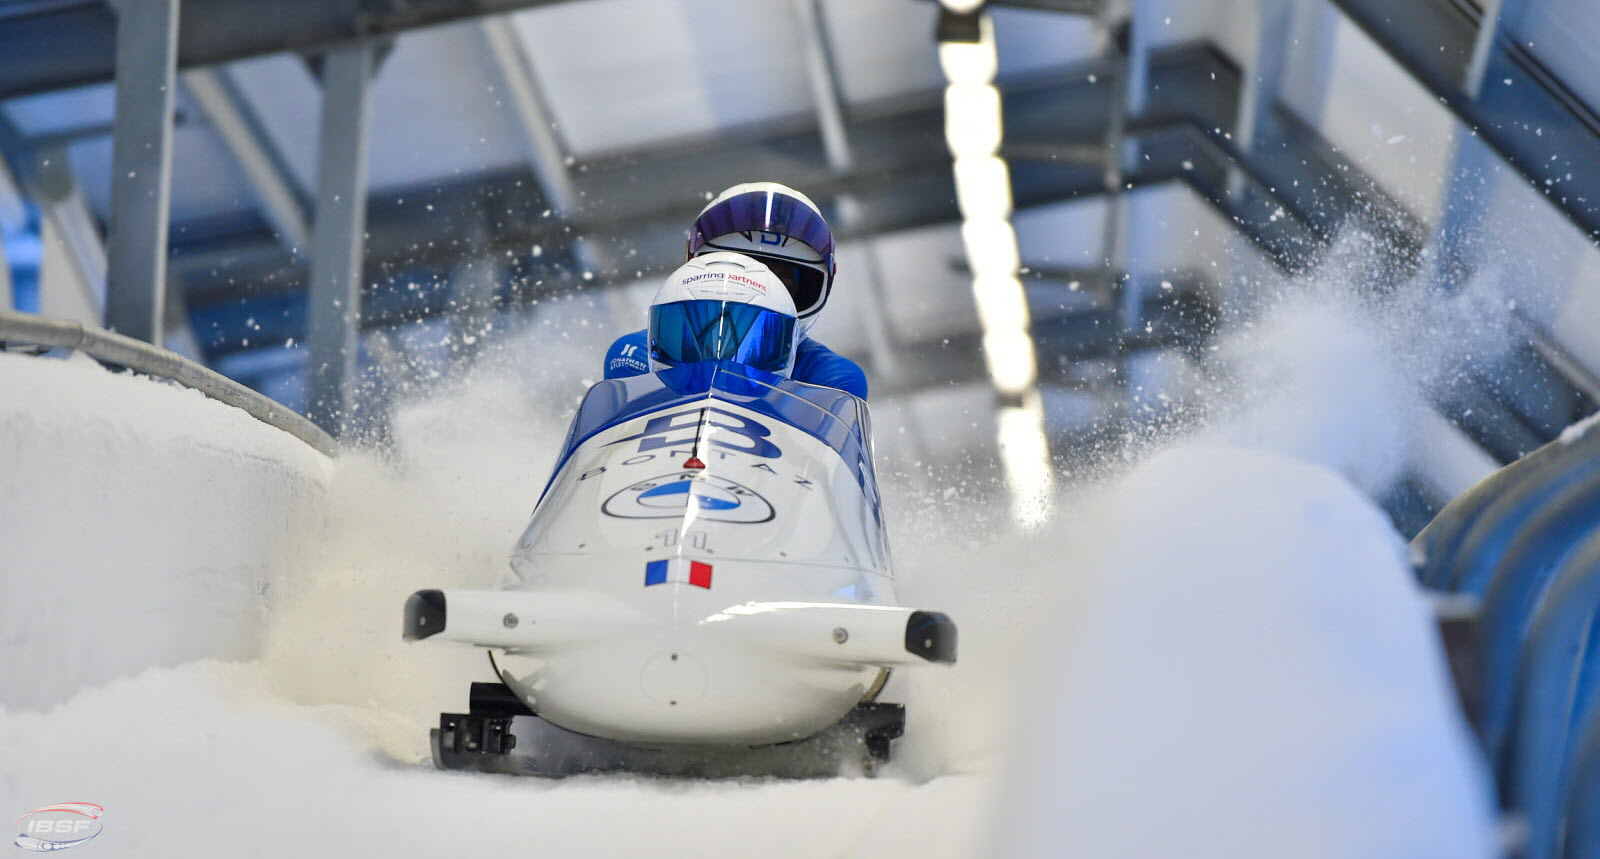Bobsleigh: (400, 382, 954, 762)
